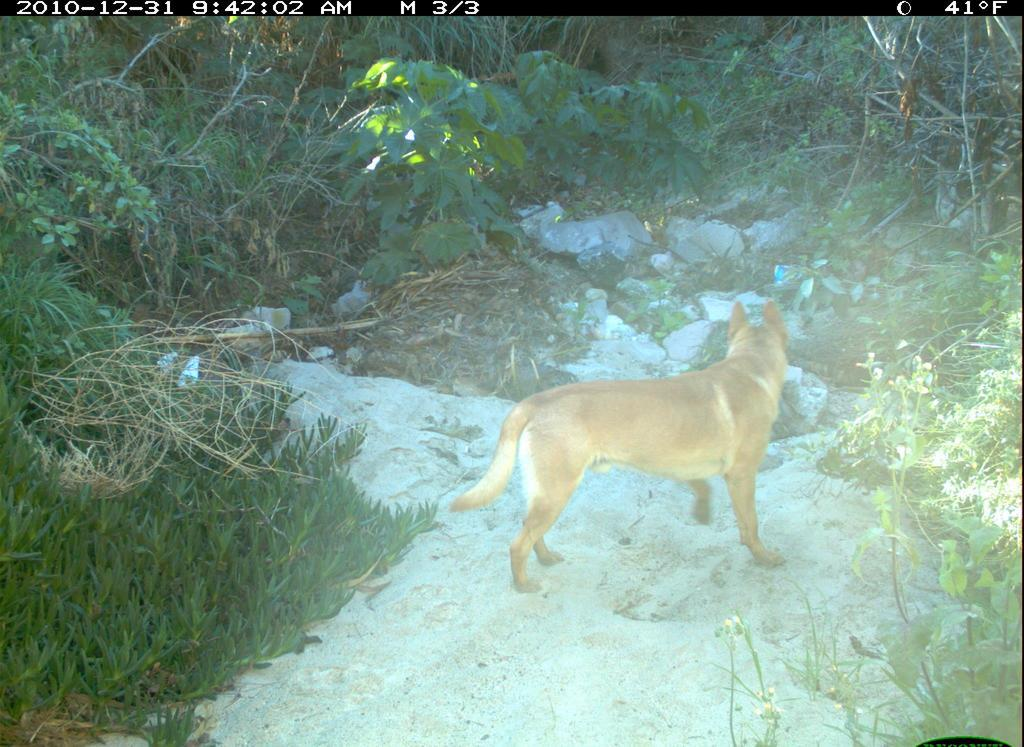dog: (440, 295, 817, 611)
